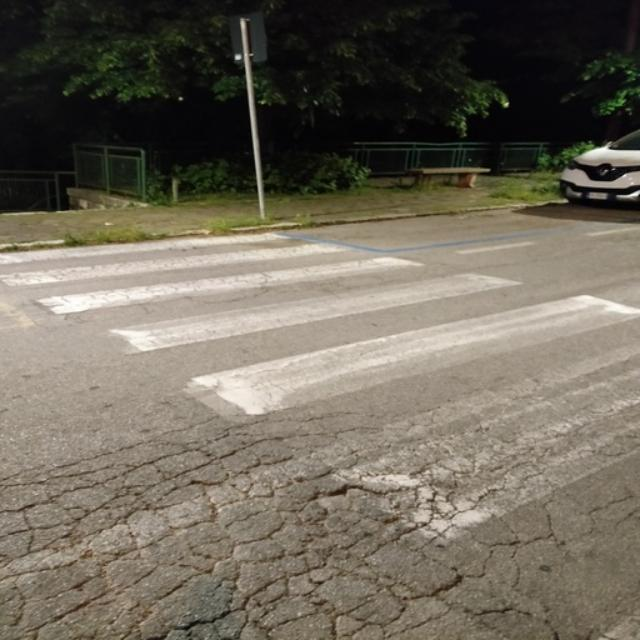sidewalk: (4, 231, 640, 640)
